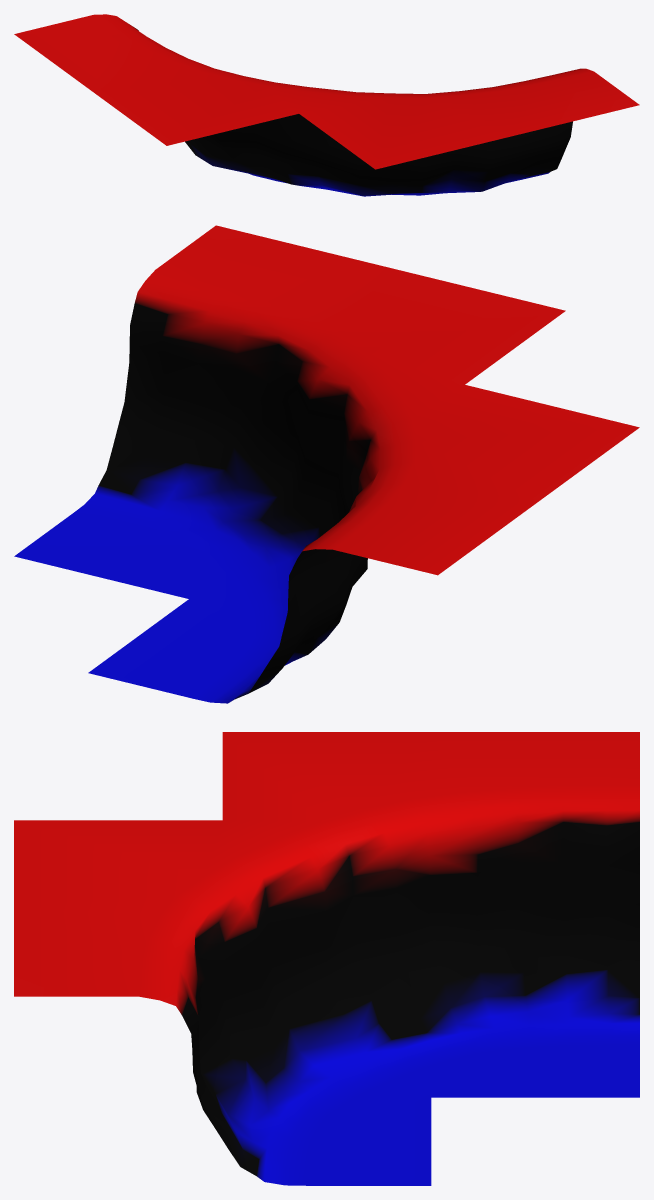
The model's file is RiveCliff06A Background.fbx.
3 renders of one model, top to bottom at view 1: azimuth 30°, elevation 25°; view 2: azimuth 150°, elevation 25°; view 3: azimuth 270°, elevation 25°, orthographic. The views are drawn at different scales.
Parts seen in each view (by area): view 1: RiveCliff06A Background; view 2: RiveCliff06A Background; view 3: RiveCliff06A Background.
Part boxes in pixels (x1=…): RiveCliff06A Background: x1=14, y1=14, x2=639, y2=196; RiveCliff06A Background: x1=14, y1=225, x2=639, y2=703; RiveCliff06A Background: x1=14, y1=732, x2=639, y2=1185.
Size of the model in its own units: 3 by 1 by 3.
